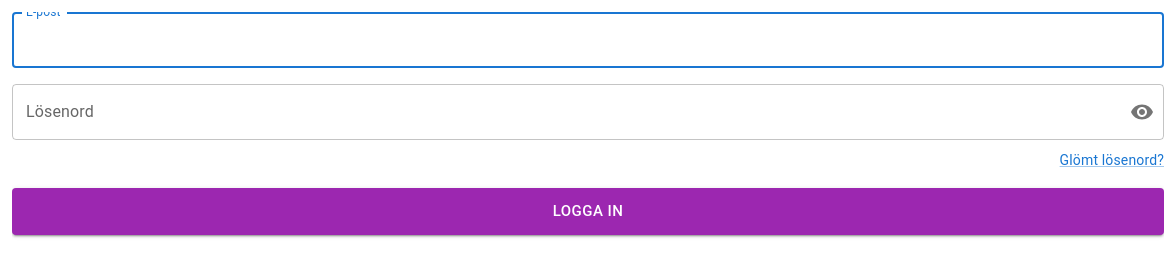
Test case: LoginForm › should show validation error when password is empty
Type "test@example.com" into the field labelled "E-post".
click(588, 40); type("test@example.com")  # box [12,12,1164,68]
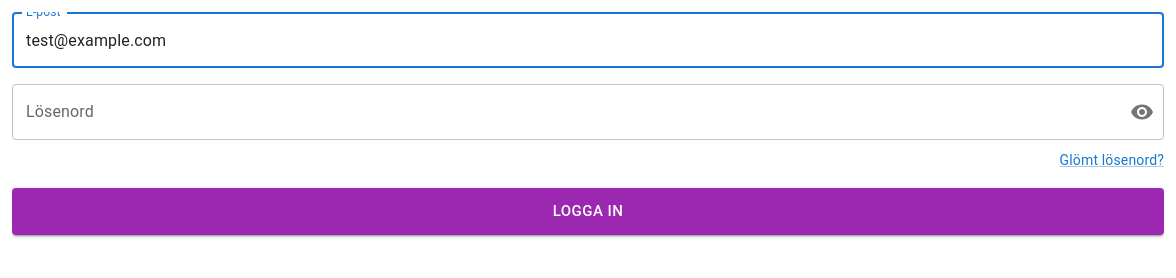
Click the button "Logga in".
click(588, 212)  # box [12,188,1164,235]
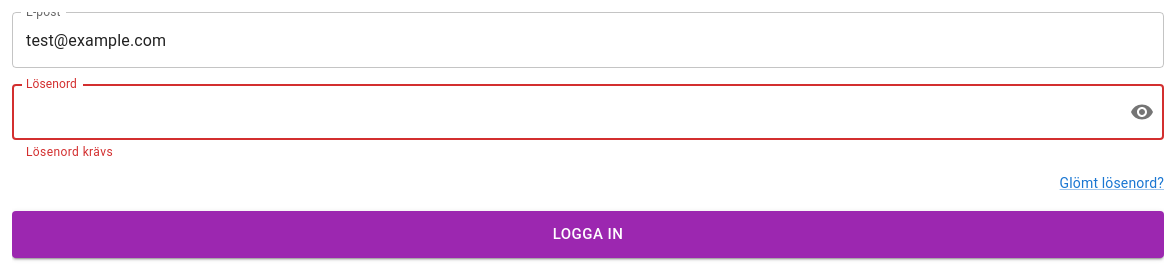
Now the text "Lösenord krävs" is shown, box [26,145,113,159]
